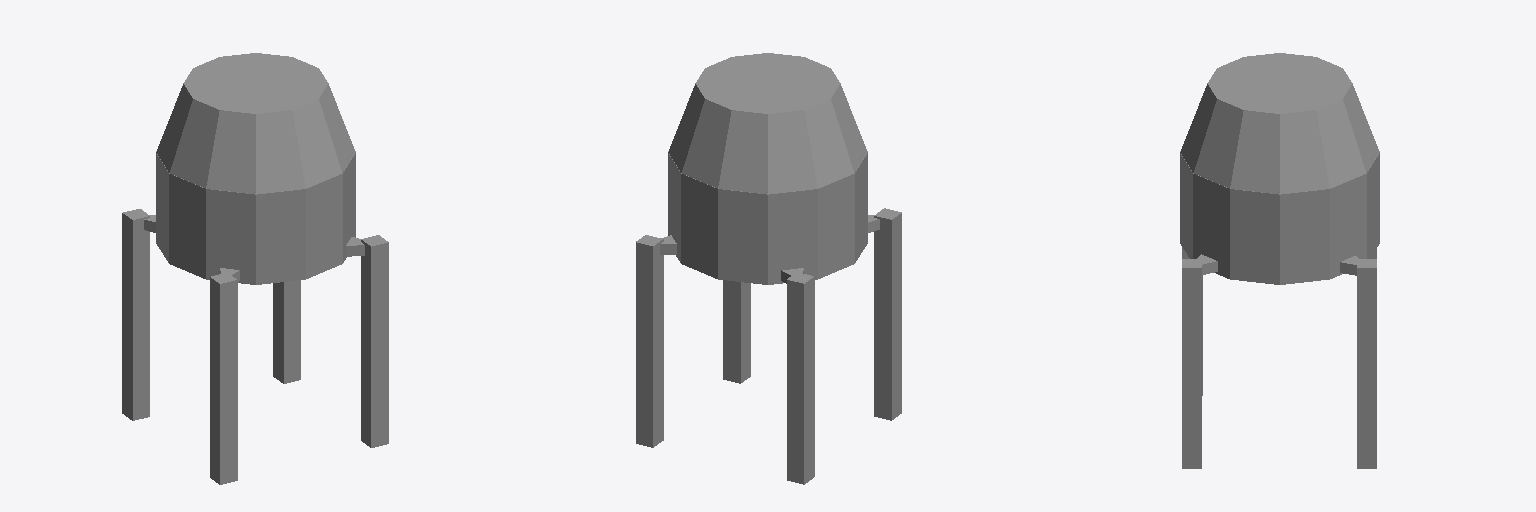
Rendered from cement_mixer.obj.
3 views of the same model, side by side, from view 1: azimuth 30°, elevation 25°; view 2: azimuth 150°, elevation 25°; view 3: azimuth 270°, elevation 25° (orthographic).
Visible parts, largest first — view 1: Cube.007_Cube.008; view 2: Cube.007_Cube.008; view 3: Cube.007_Cube.008.
Part boxes in pixels (left/top/right/bottom): Cube.007_Cube.008: left=122, top=53, right=388, bottom=484; Cube.007_Cube.008: left=636, top=53, right=901, bottom=484; Cube.007_Cube.008: left=1180, top=53, right=1379, bottom=468.
Size of the model in its own units: 0.9763 by 1.86 by 0.9763.